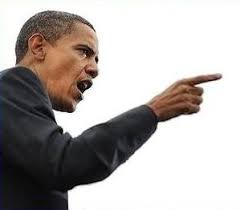hand: (142, 60, 232, 123)
